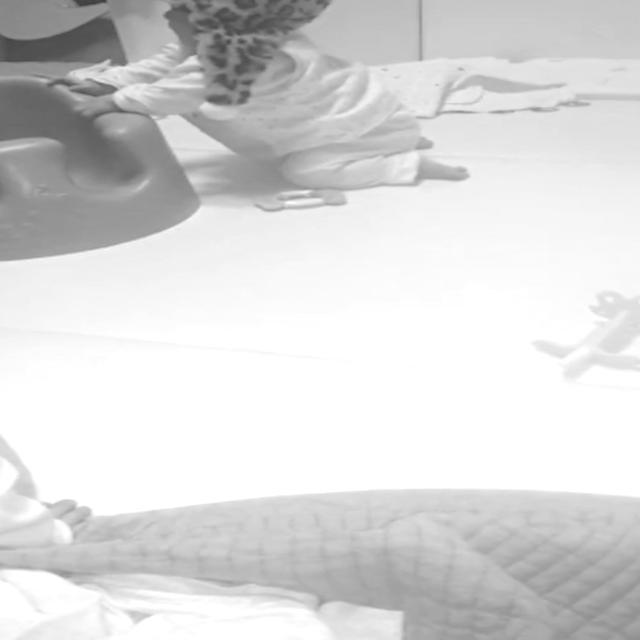child: (52, 0, 474, 189)
